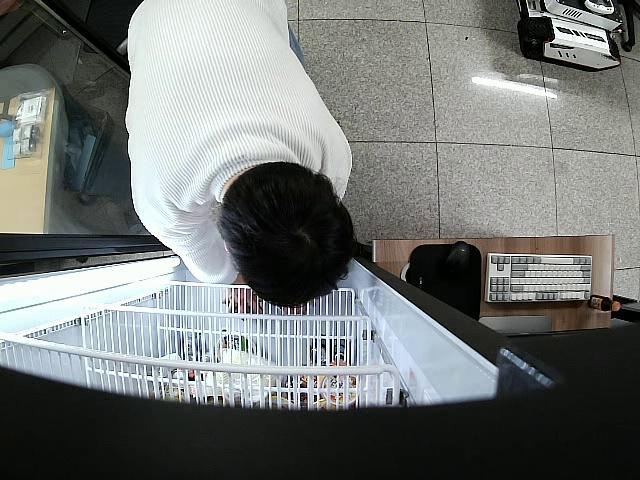00_hand: (222, 275, 265, 317)
